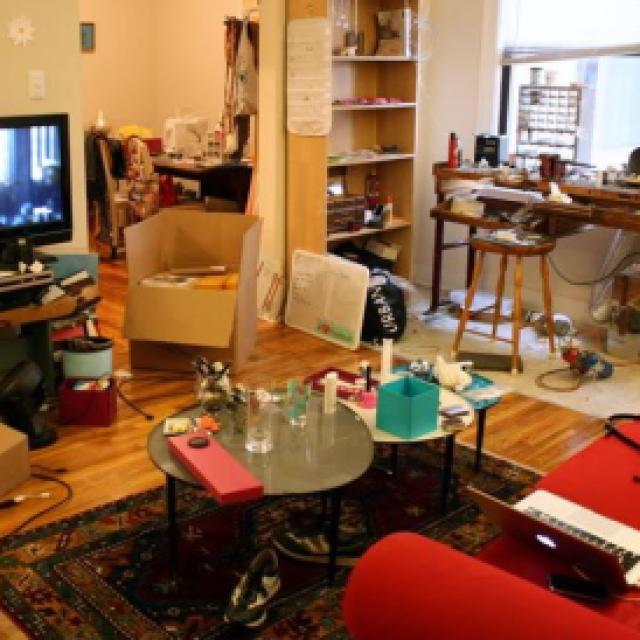scattered-items: (308, 0, 423, 283), (0, 294, 128, 541), (170, 358, 394, 485), (437, 128, 640, 248)
